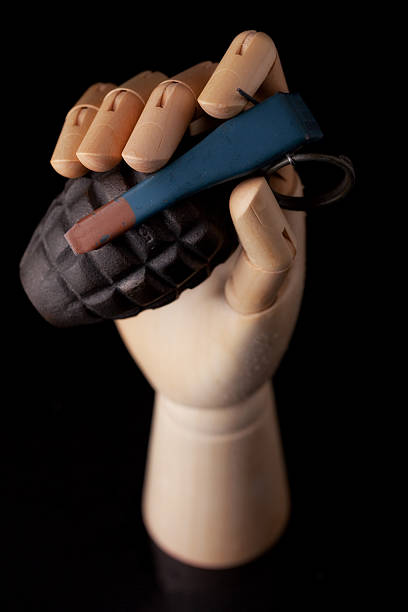e1: (21, 93, 351, 323)
